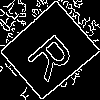R: (24, 25, 83, 84)
